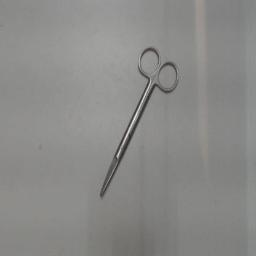Curved Mayo Scissors: (98, 41, 182, 201)
